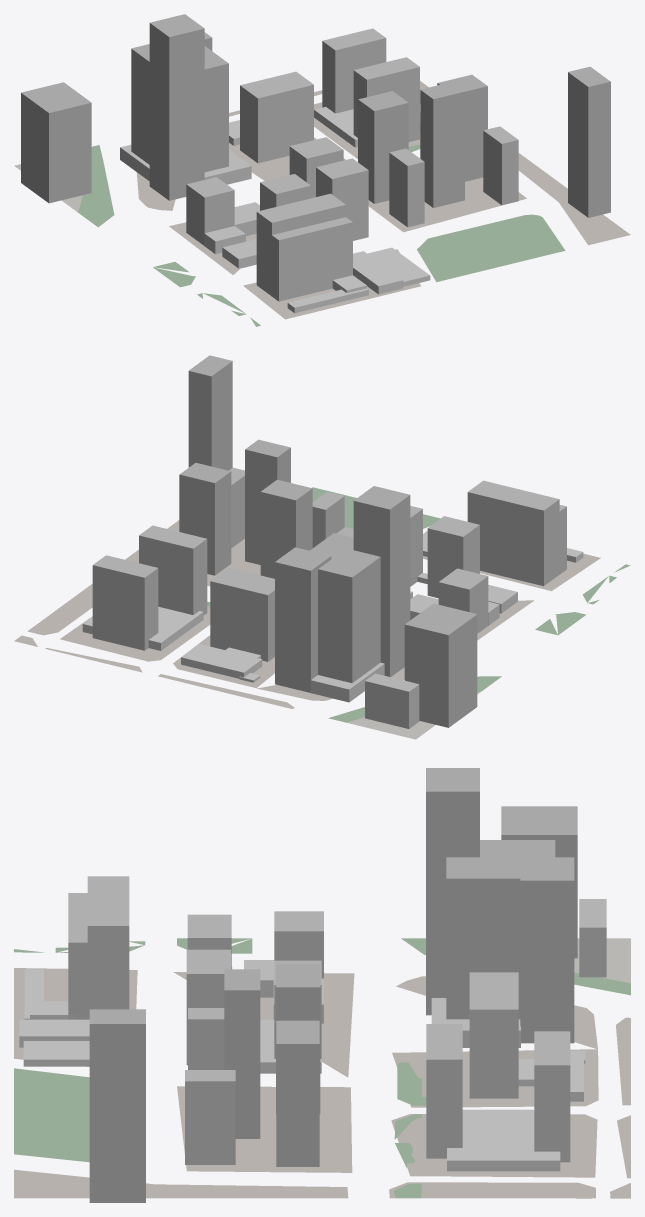
The model's file is 119_77_mid.glb.
3 views of the same model, one above another, from view 1: azimuth 30°, elevation 25°; view 2: azimuth 150°, elevation 25°; view 3: azimuth 270°, elevation 25° (orthographic). The views are drawn at different scales.
Size of the model in its own units: 526 by 200 by 500.
